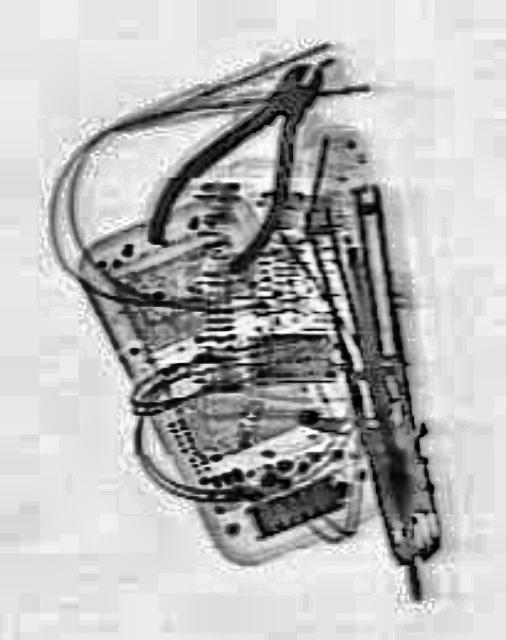Pliers: (137, 20, 353, 298)
